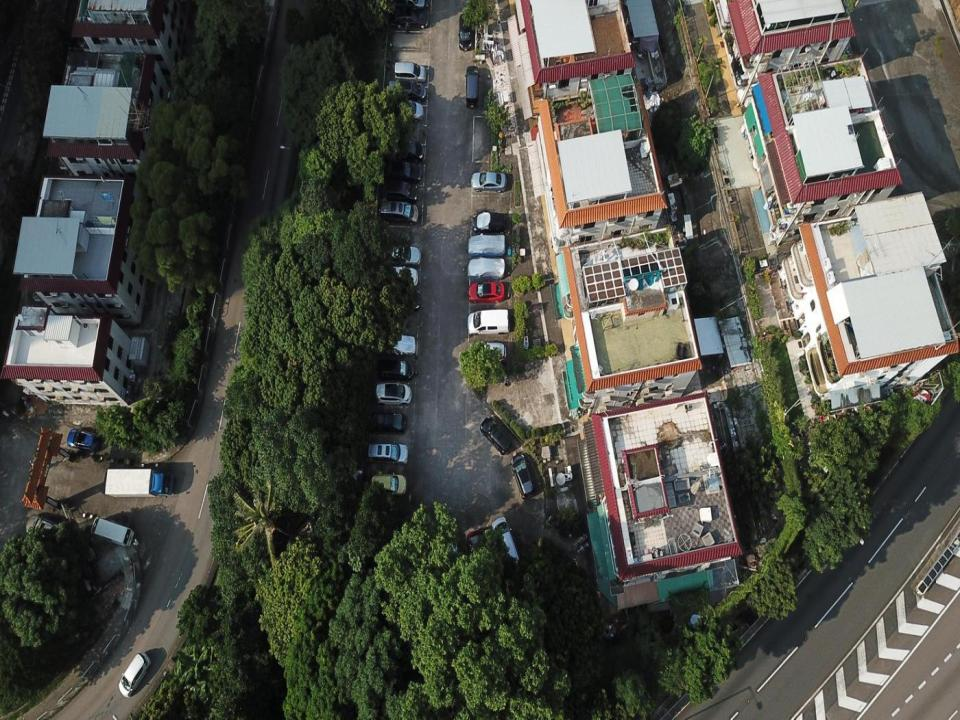car: (118, 651, 152, 698), (24, 512, 64, 546), (465, 529, 492, 578), (480, 416, 512, 455), (510, 453, 534, 500), (373, 379, 412, 407), (366, 440, 408, 465), (365, 411, 407, 436), (381, 287, 421, 313), (389, 4, 429, 30), (381, 177, 419, 204), (386, 137, 424, 164), (380, 241, 421, 266), (382, 159, 422, 183), (467, 232, 505, 257), (389, 79, 426, 104), (470, 170, 508, 194), (467, 256, 505, 280), (467, 280, 505, 304), (469, 340, 507, 364), (371, 472, 407, 497), (380, 332, 417, 356), (472, 210, 507, 235), (379, 265, 418, 287), (377, 357, 414, 380), (66, 428, 100, 453), (390, 99, 424, 123), (393, 60, 426, 84), (458, 12, 472, 51)
truck: (104, 468, 174, 499)
van: (89, 514, 135, 548), (492, 515, 519, 570), (466, 309, 509, 336), (378, 198, 419, 226), (464, 65, 481, 109)
